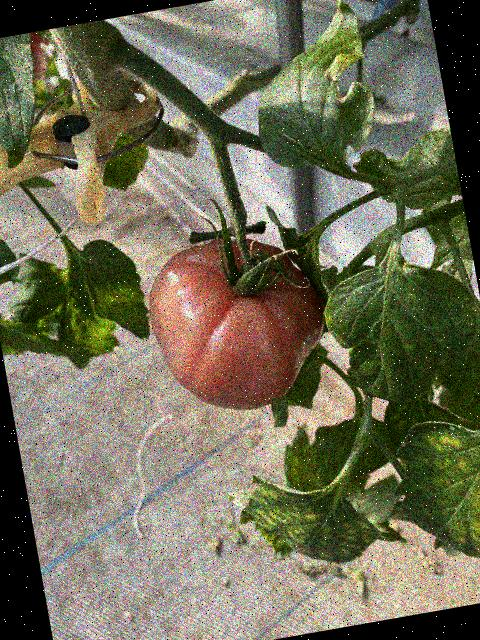b_fully_ripened: (138, 222, 337, 425)
